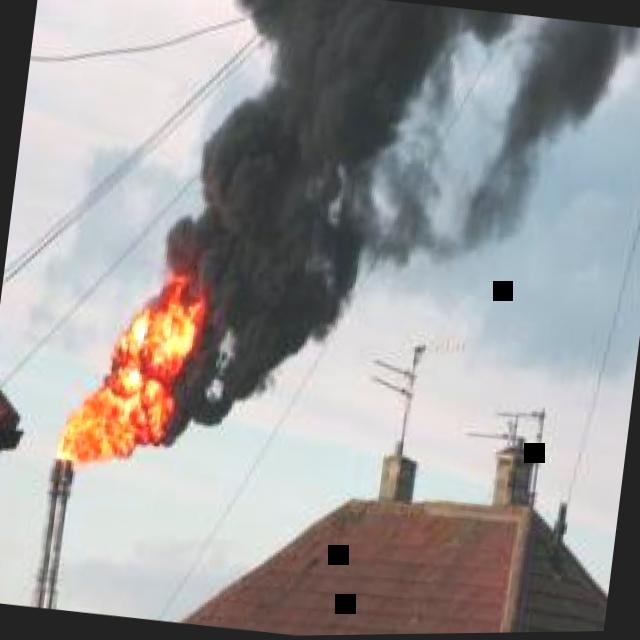fire: (55, 292, 200, 460)
smoke: (149, 0, 515, 448), (458, 19, 640, 252)
